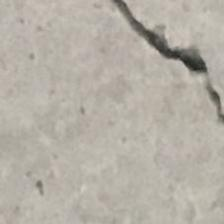Crack: (104, 0, 224, 131)
